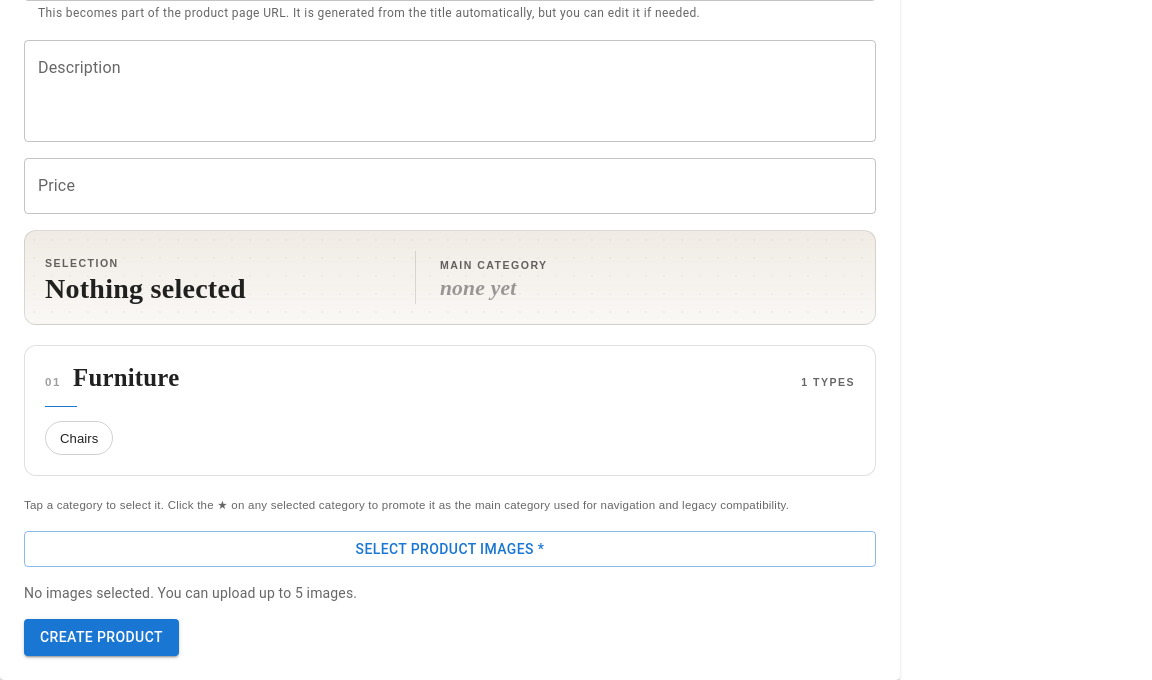
Scenario: AdminNewProductPage › shows validation errors when required fields are missing
The width and height of the screenshot is (1152, 680).
(page scrolled)
Click the button "Create product": (101, 637) [24, 619, 179, 656]
(page scrolled)
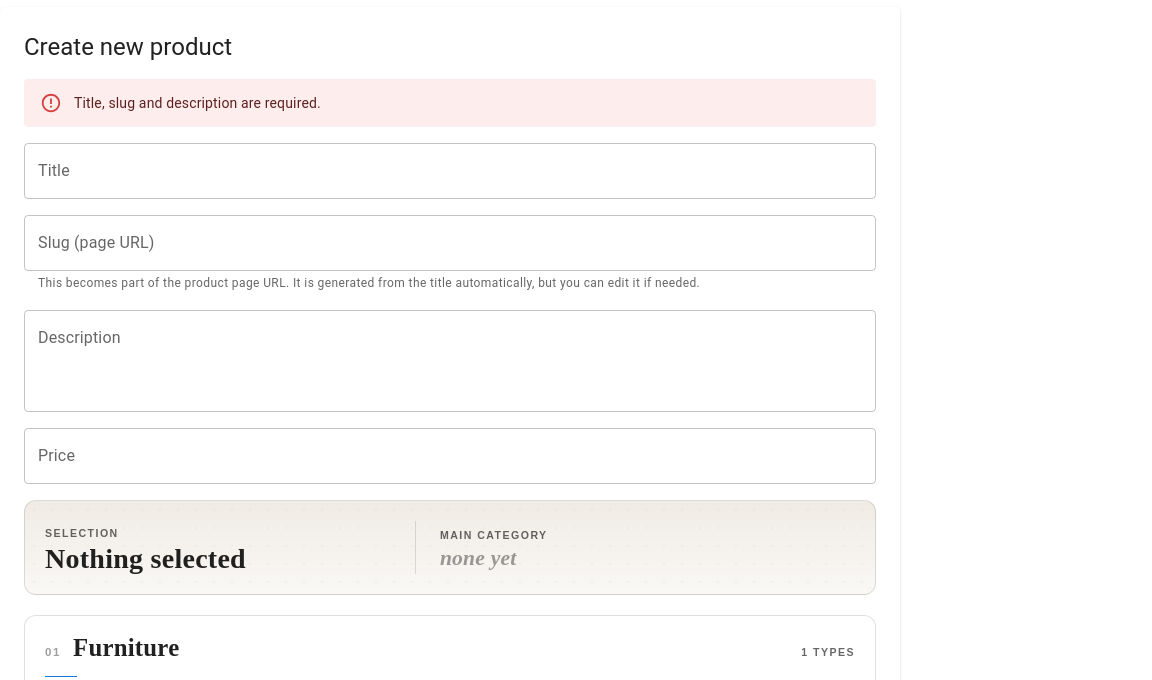
Check: the text "Title, slug and description are required." is shown, box [74, 95, 321, 111]
